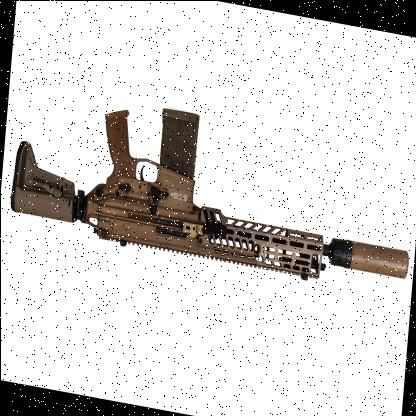rifle: (0, 148, 381, 369)
